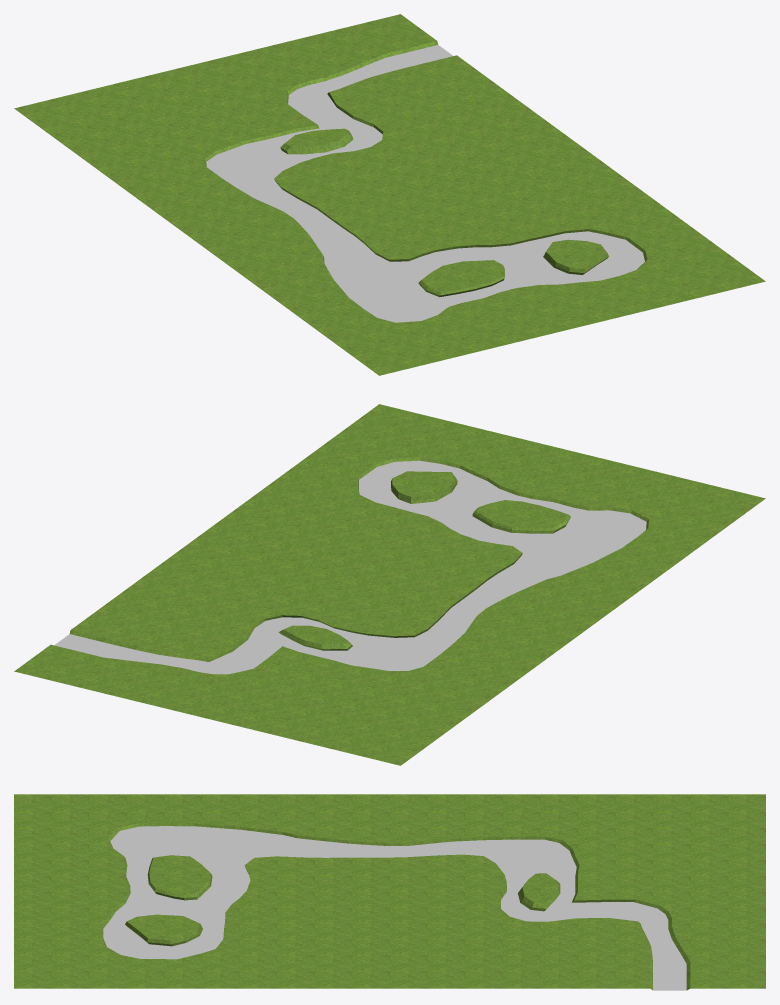
File: PlatformThreePhones.fbx
3 views of the same model, one above another, from view 1: azimuth 30°, elevation 25°; view 2: azimuth 150°, elevation 25°; view 3: azimuth 270°, elevation 25° (orthographic). The views are drawn at different scales.
Parts seen in each view (by area): view 1: Plane; view 2: Plane; view 3: Plane.
Boxes of the visible parts, x1,y1,x2,y2 form: Plane: (14, 14, 765, 375); Plane: (14, 404, 765, 765); Plane: (14, 794, 765, 990).
Bounding box in the file's own units: 2200 × 31.55 × 3600.
